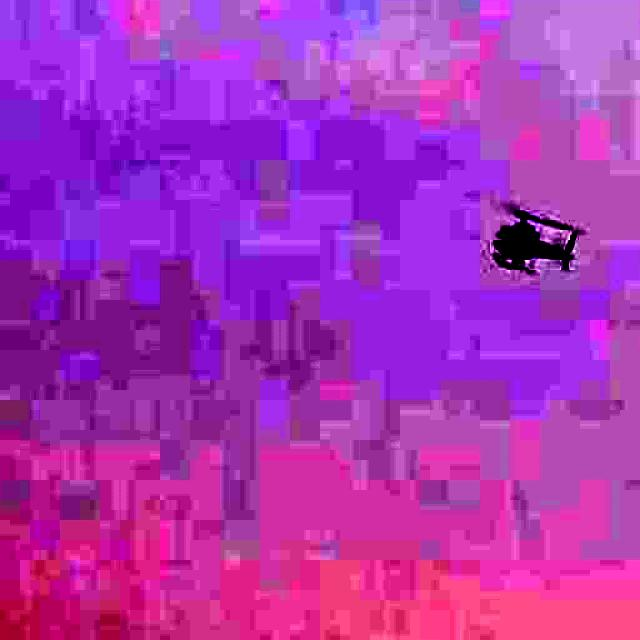drone: (456, 169, 586, 298)
